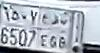0: (19, 13, 27, 47)
5: (10, 8, 18, 46)
6: (1, 5, 9, 45)
7: (28, 9, 36, 48)
B: (59, 16, 67, 51)
E: (41, 12, 48, 49)
G: (49, 14, 59, 49)
